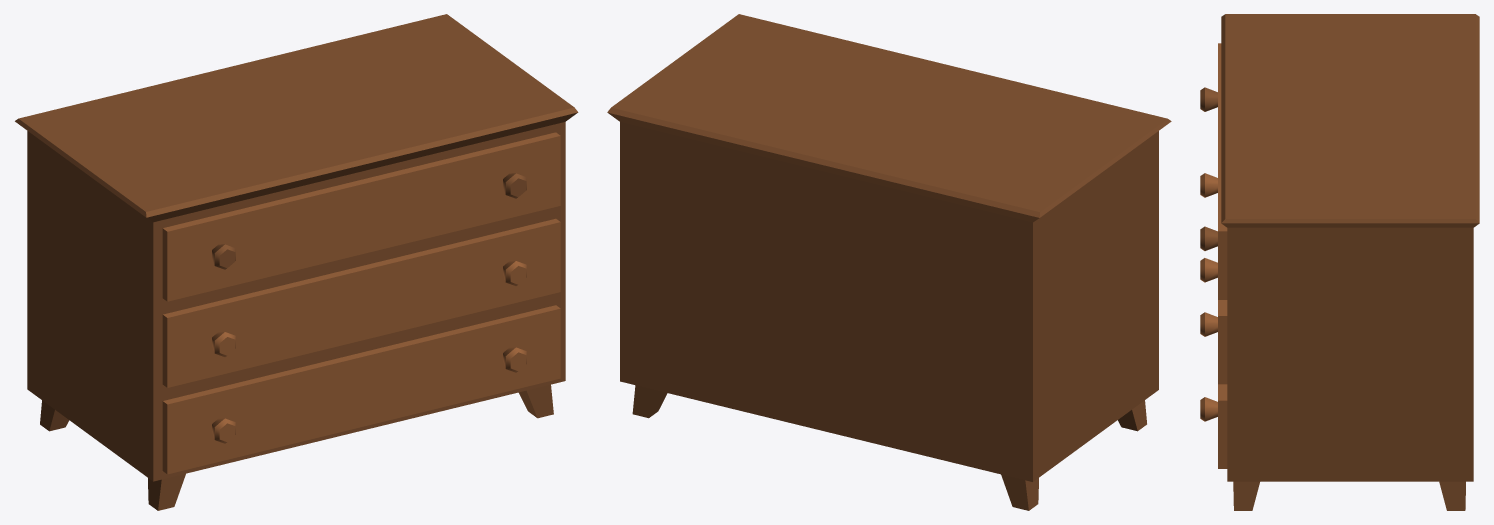
Rendered from 15_furniture_Drawer.FBX.
The picture shows the model from 3 angles, left to right: view 1: azimuth 30°, elevation 25°; view 2: azimuth 150°, elevation 25°; view 3: azimuth 270°, elevation 25°; orthographic projection. The views are drawn at different scales.
Parts seen in each view (by area): view 1: furniture_Drawer2 (×4); view 2: furniture_Drawer2; view 3: furniture_Drawer2 (×4).
Part boxes in pixels (x1,y1,x2,y2): furniture_Drawer2 (×4): [15, 14, 578, 510]; furniture_Drawer2: [607, 14, 1171, 510]; furniture_Drawer2 (×4): [1200, 14, 1479, 510].
Bounding box in the file's own units: 98.58 × 66.75 × 56.38.
